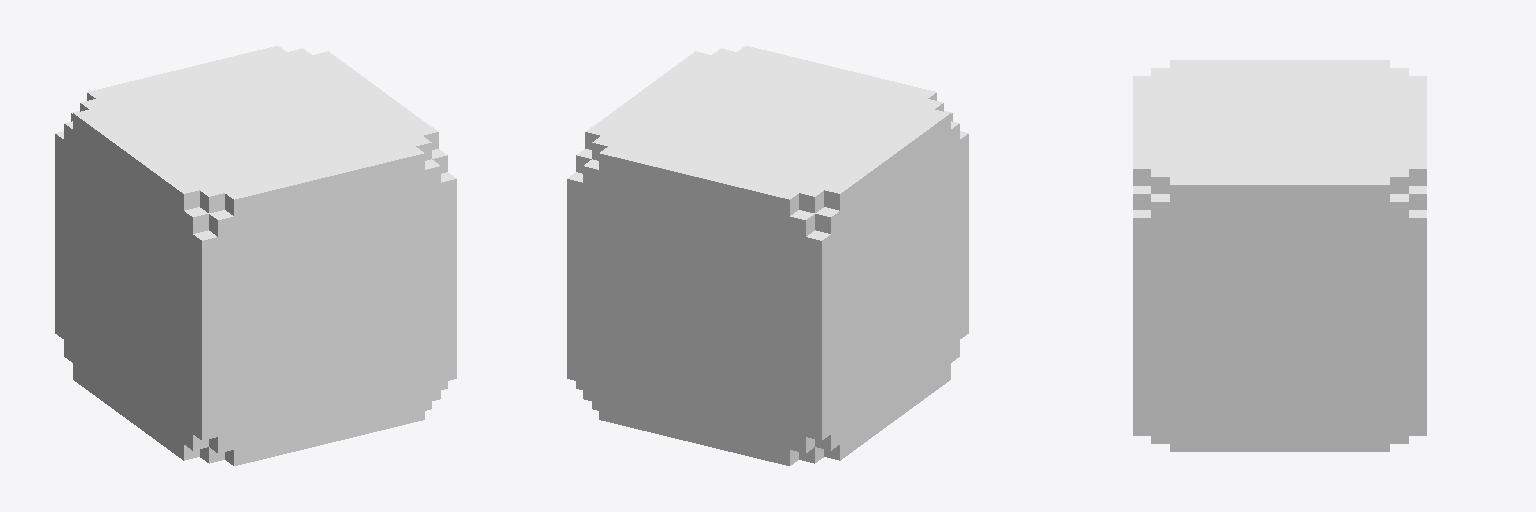
Rendered from BlockSand.obj.
3 views of the same model, side by side, from view 1: azimuth 30°, elevation 25°; view 2: azimuth 150°, elevation 25°; view 3: azimuth 270°, elevation 25° (orthographic).
Parts seen in each view (by area): view 1: BlockSand; view 2: BlockSand; view 3: BlockSand.
Boxes of the visible parts, <box> form: BlockSand: <box>55,46,456,465</box>; BlockSand: <box>567,46,968,465</box>; BlockSand: <box>1133,60,1426,451</box>.
Bounding box in the file's own units: 16 × 16 × 16.